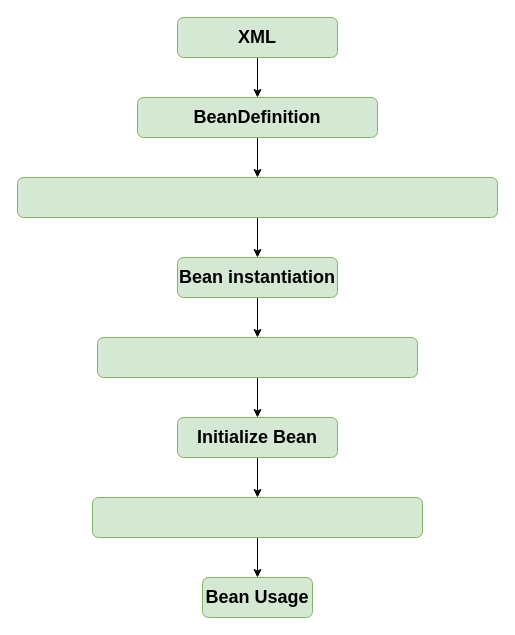
Image size: 515x635. Some labels were removed from this diagram. Here are the shapes that lost their labels. From the top down, the box of each, then its label:
(16, 176, 498, 218): BeanFactoryPostProcessor modifies BeanDefinition
(96, 336, 418, 378): BeanPostProcessor pre-processing
(92, 496, 422, 538): BeanPostProcessor post-processing
